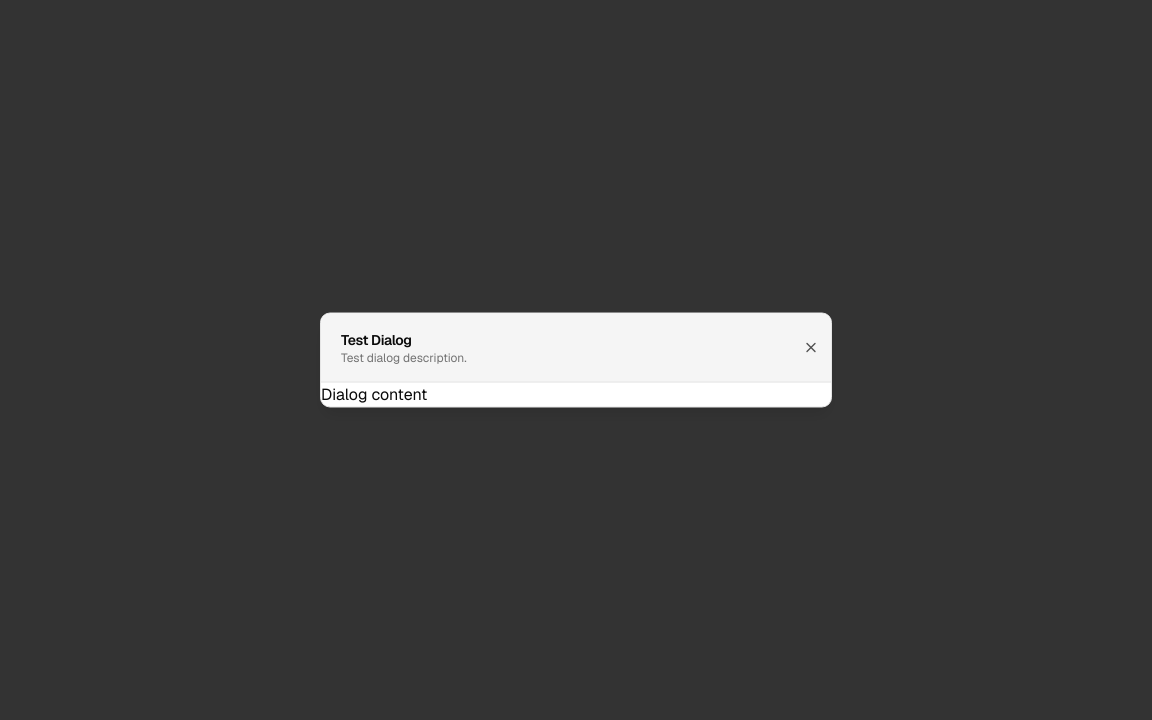
Test: FormDialog › handleStay should keep dialog open when clicking Stay button
# Press ESC to show confirmation (implicit close action)
Press Escape
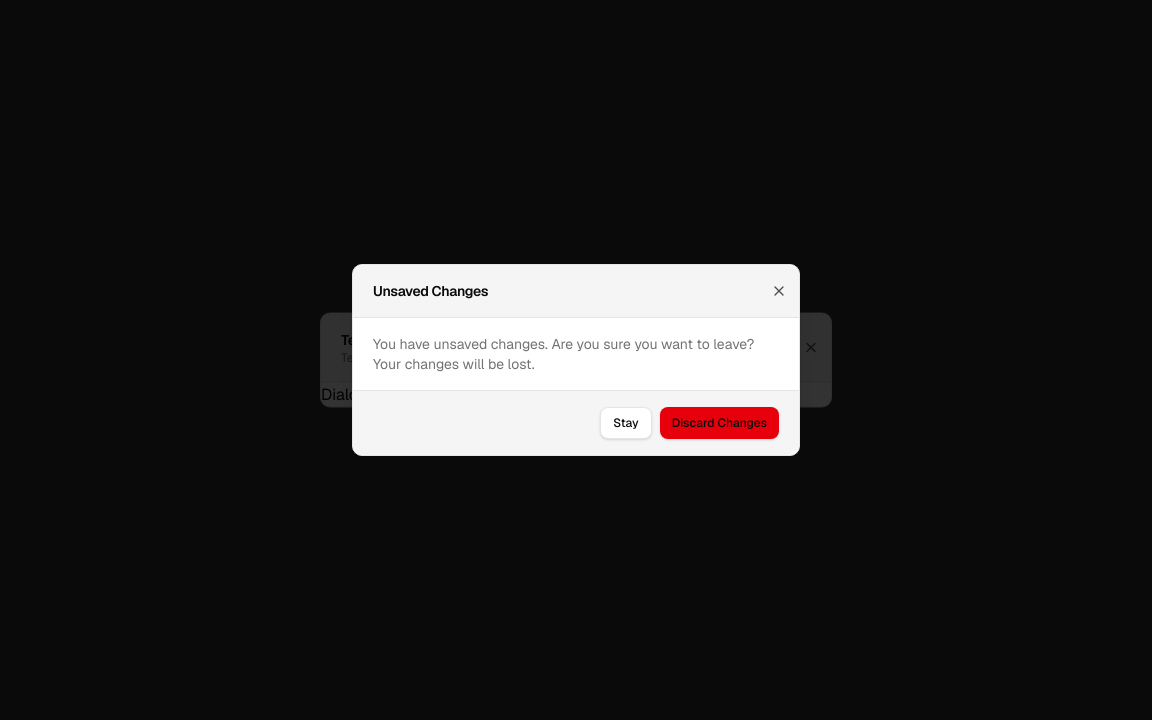
Expected: the heading "Unsaved Changes" is shown, [373,282,488,300]
# Click Stay button
Click the button "Stay".
click(626, 423)  # box [600,407,652,439]
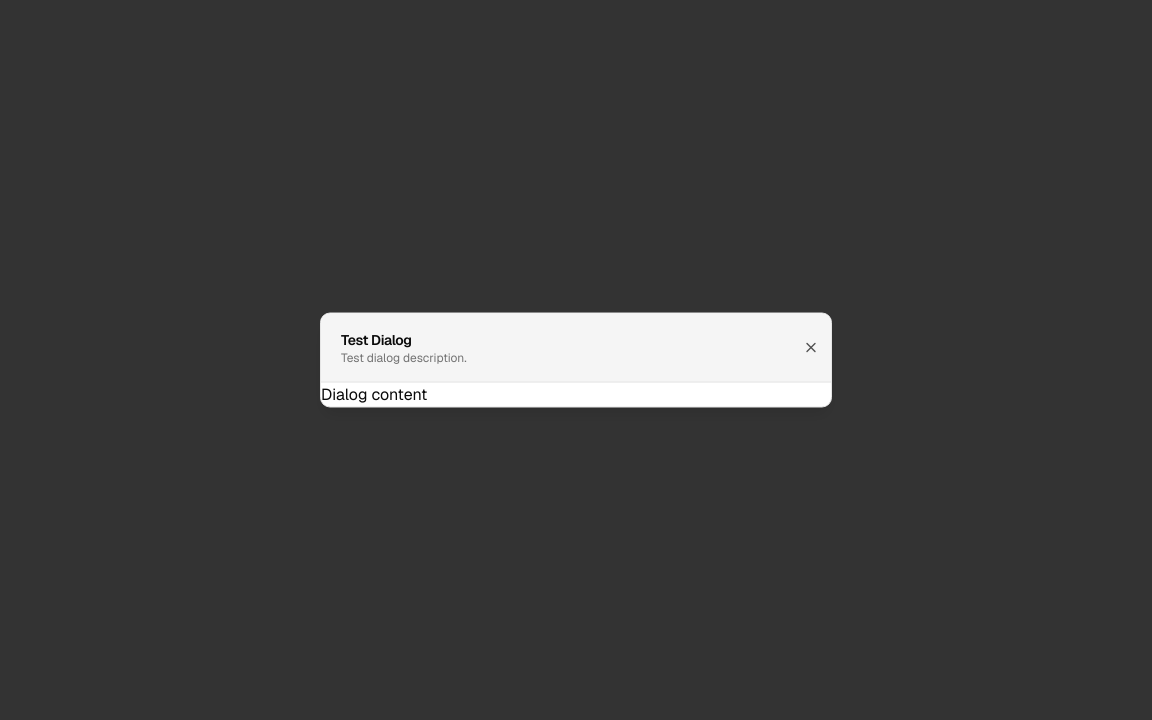
Expected: the heading "Test Dialog" is shown, [341,330,412,348]
Expected: the heading "Unsaved Changes" is gone
